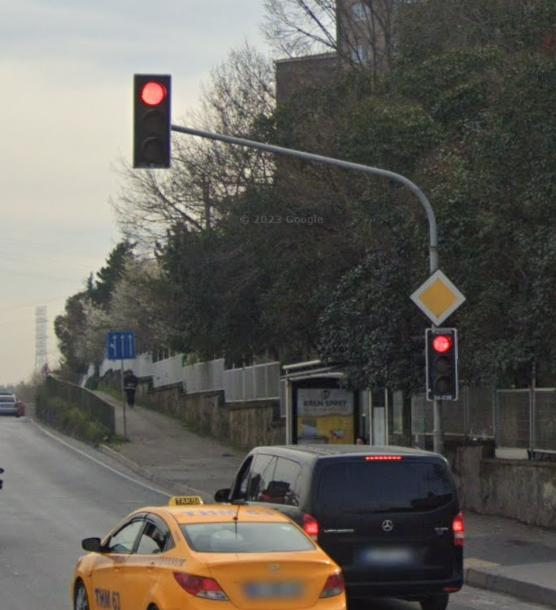redlight: (135, 73, 171, 167), (427, 327, 462, 402)
